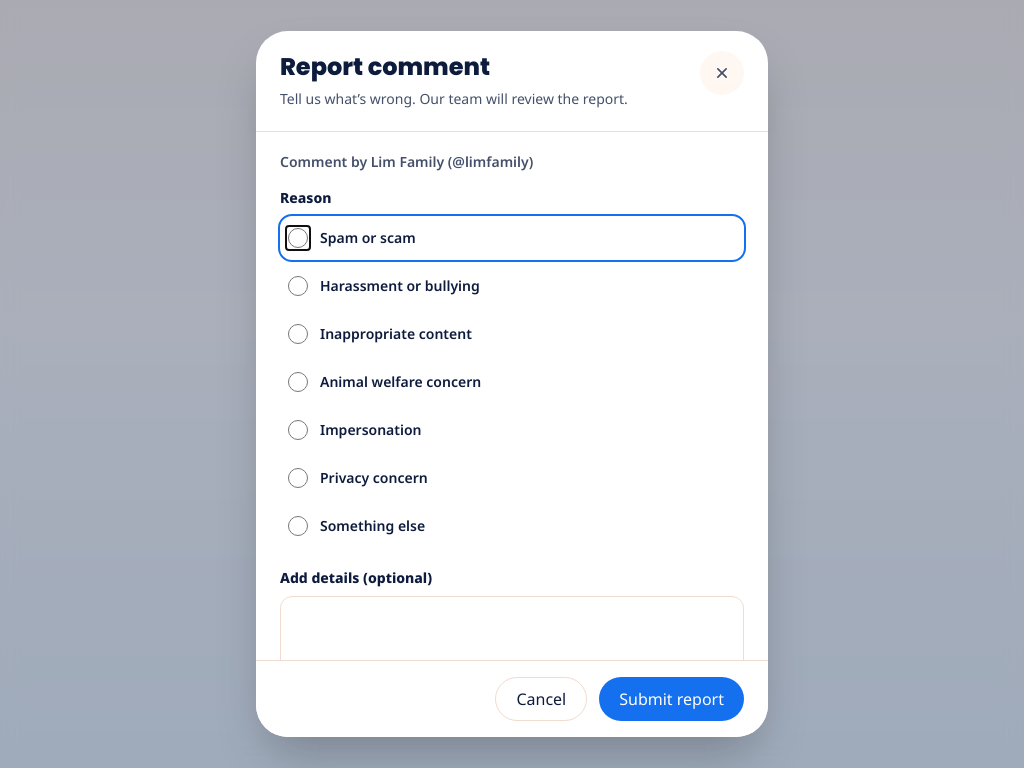
Test case: Community report dialog › handles unavailable without showing a technical code
What coordinates should you click on to do the following:
click the radio button labelled "Spam or scam"
I would click on:
 (298, 238)
Its box is top-left (288, 228), bottom-right (308, 248).
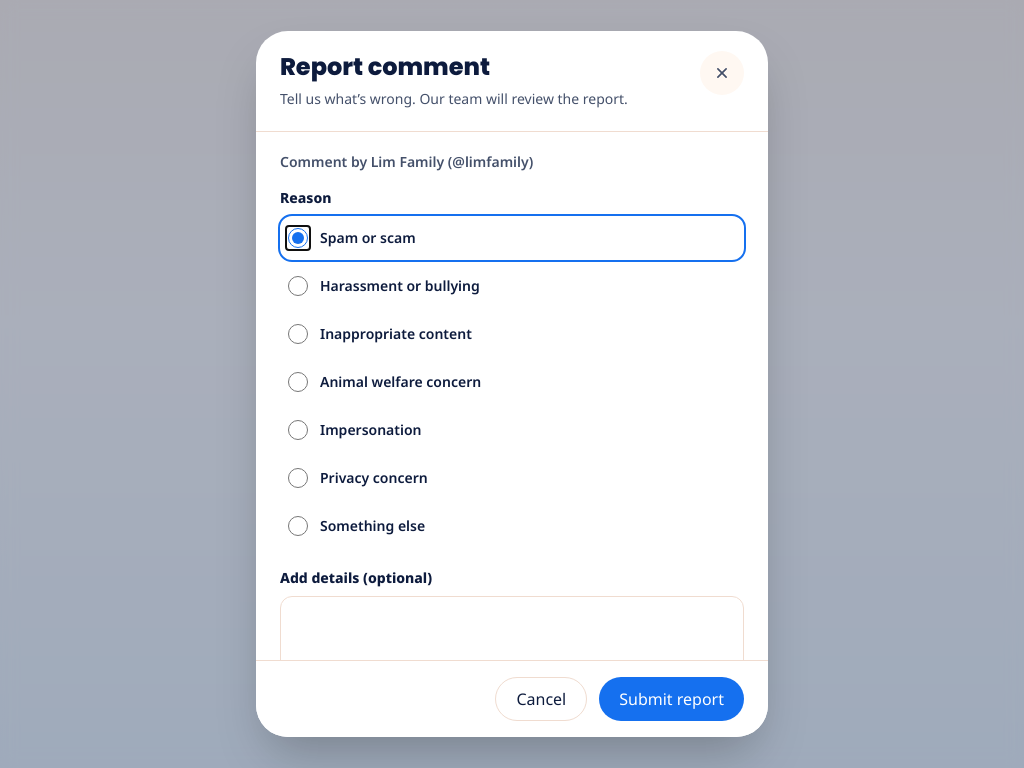
What coordinates should you click on to do the following:
click the button "Submit report"
I would click on:
 (672, 699)
Its box is top-left (599, 677), bottom-right (744, 721).
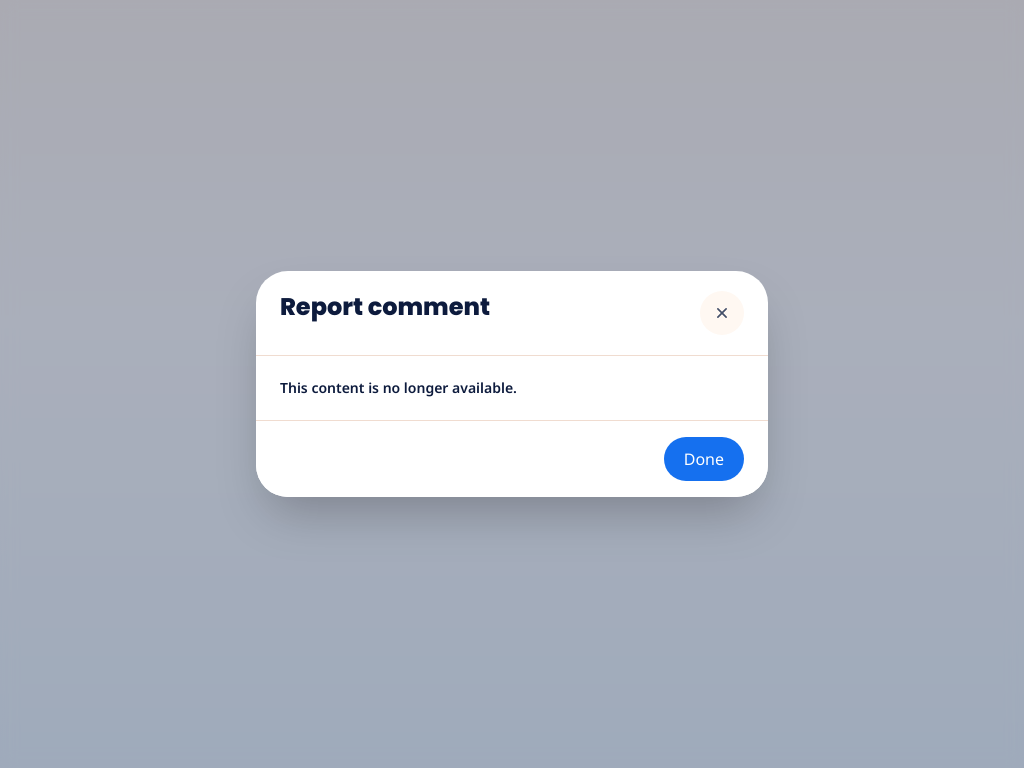
Expected: the text "This content is no longer available." is shown, top-left (280, 378), bottom-right (517, 397)
